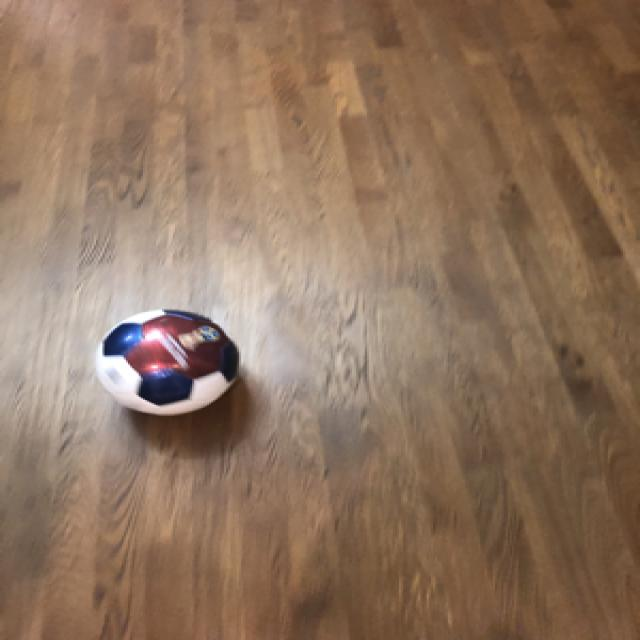soccer_ball: (90, 306, 241, 416)
